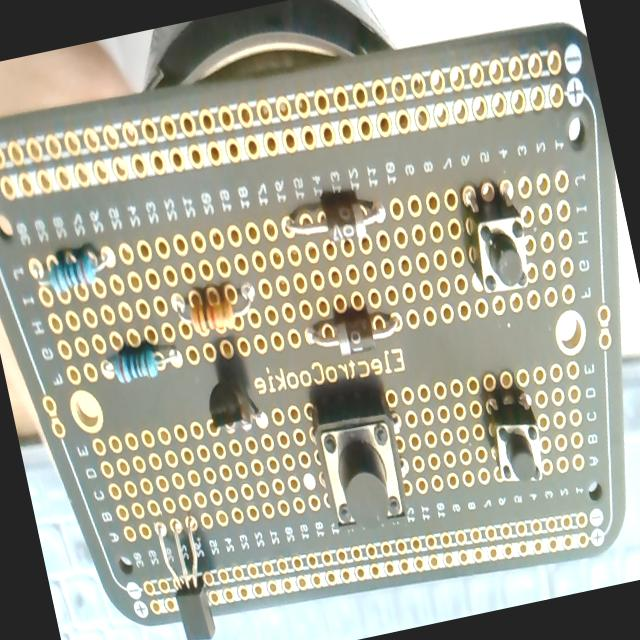diode: (284, 186, 392, 252), (306, 302, 403, 362)
resistor: (170, 276, 262, 336), (32, 241, 114, 299), (99, 334, 185, 388)
switch: (306, 389, 416, 537), (452, 174, 542, 302), (482, 389, 548, 488)
transistor: (154, 512, 222, 640), (200, 372, 266, 439)
